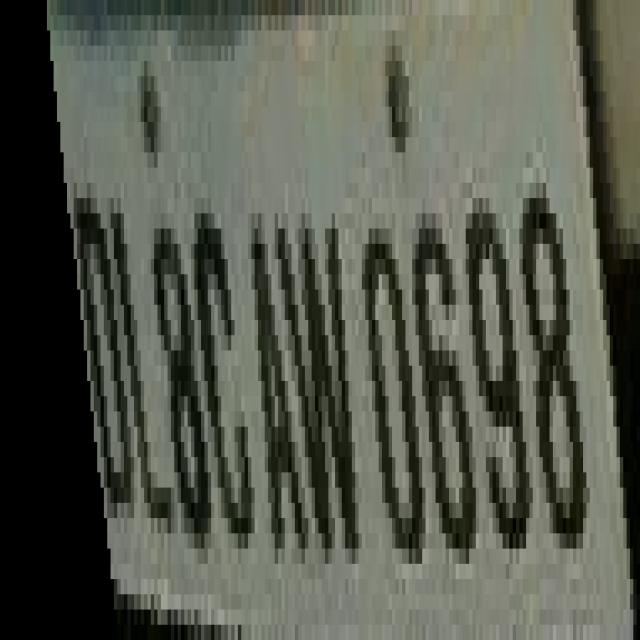license_plate: (30, 15, 637, 610)
